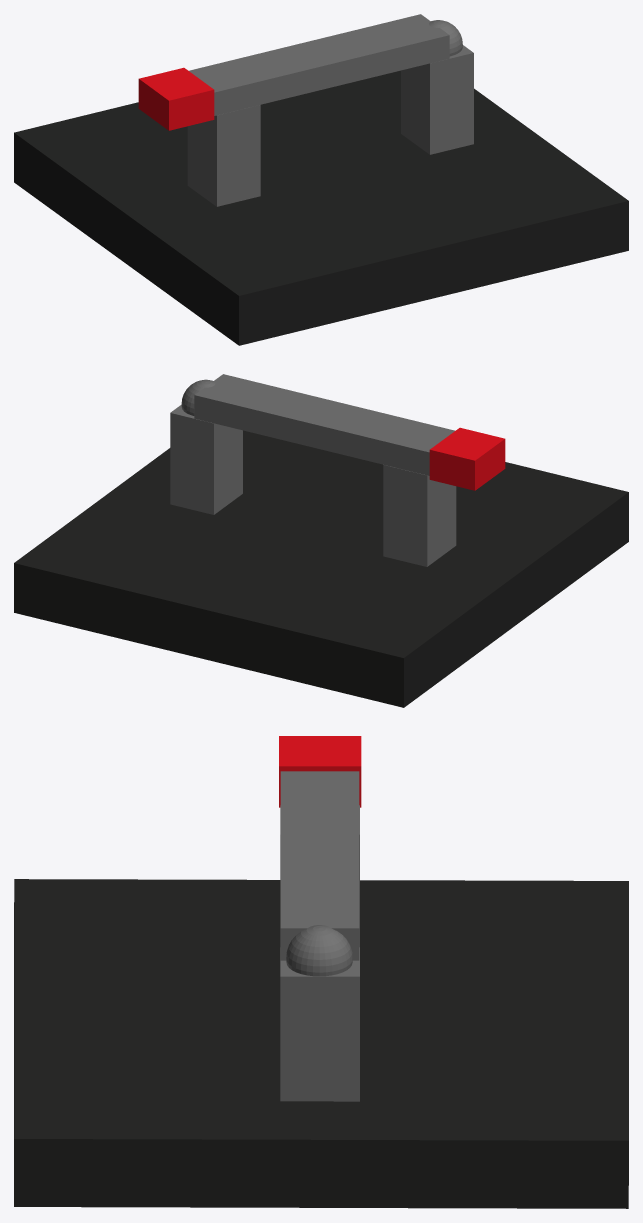
Rendered from switch_on.fbx.
The picture shows the model from 3 angles, top to bottom: view 1: azimuth 30°, elevation 25°; view 2: azimuth 150°, elevation 25°; view 3: azimuth 270°, elevation 25°; orthographic projection. The views are drawn at different scales.
Visible parts, largest first — view 1: Cube, 立方体, 立方体.001, 立方体.002; view 2: Cube, 立方体, 立方体.001, 立方体.002; view 3: Cube, 立方体, 立方体.002.
Part boxes in pixels (x1=…): Cube: x1=14, y1=70, x2=628, y2=345; 立方体: x1=189, y1=14, x2=473, y2=154; 立方体.001: x1=187, y1=105, x2=260, y2=206; 立方体.002: x1=138, y1=67, x2=214, y2=130; Cube: x1=14, y1=430, x2=628, y2=707; 立方体: x1=170, y1=374, x2=454, y2=514; 立方体.001: x1=383, y1=464, x2=456, y2=566; 立方体.002: x1=429, y1=427, x2=505, y2=490; Cube: x1=14, y1=879, x2=628, y2=1208; 立方体: x1=280, y1=771, x2=359, y2=1101; 立方体.002: x1=279, y1=736, x2=361, y2=807.
Size of the model in its own units: 200 by 82.82 by 200.
